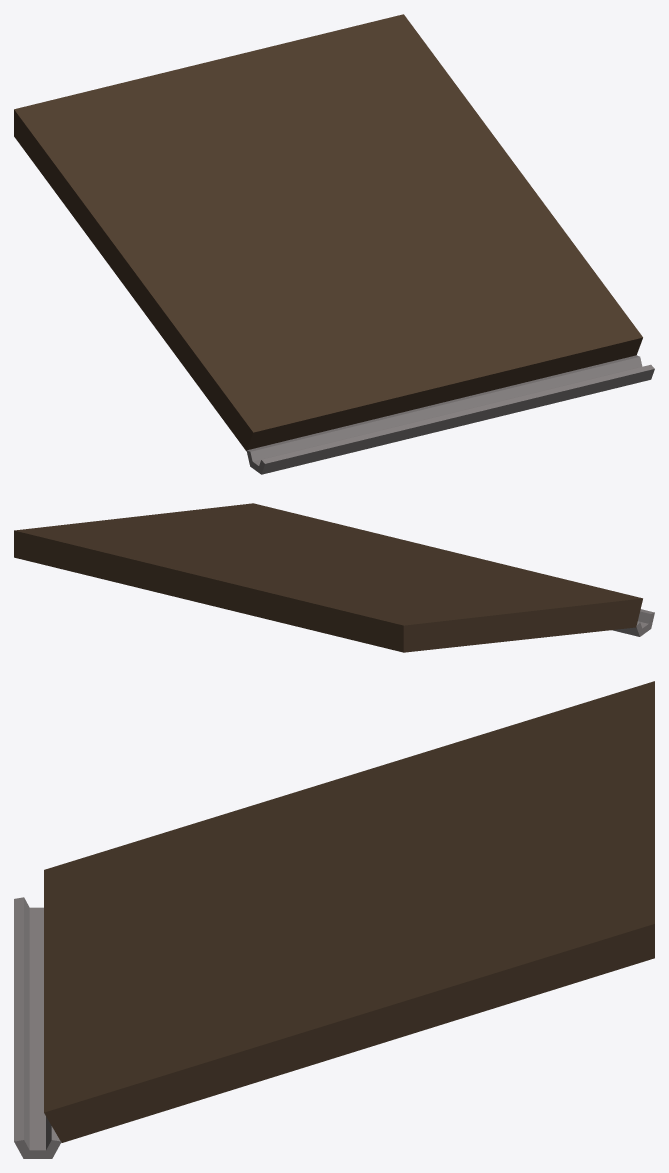
Rendered from house-roof-porch.glb.
The picture shows the model from 3 angles, top to bottom: view 1: azimuth 30°, elevation 25°; view 2: azimuth 150°, elevation 25°; view 3: azimuth 270°, elevation 25°; orthographic projection. The views are drawn at different scales.
Visible parts, largest first — view 1: house-roof-porch; view 2: house-roof-porch; view 3: house-roof-porch.
Boxes of the visible parts, x1,y1,x2,y2 form: house-roof-porch: (14, 14, 654, 474); house-roof-porch: (14, 503, 654, 652); house-roof-porch: (14, 681, 654, 1158).
Size of the model in its own units: 3 by 1.36 by 3.35.
Materials: 1 (1 with a texture image).
